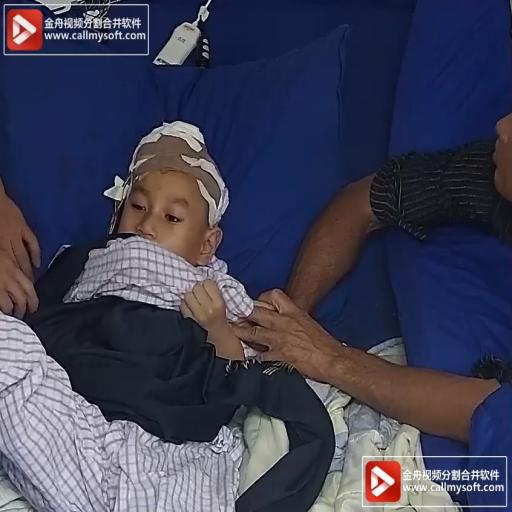Seizure: (106, 158, 221, 257)
